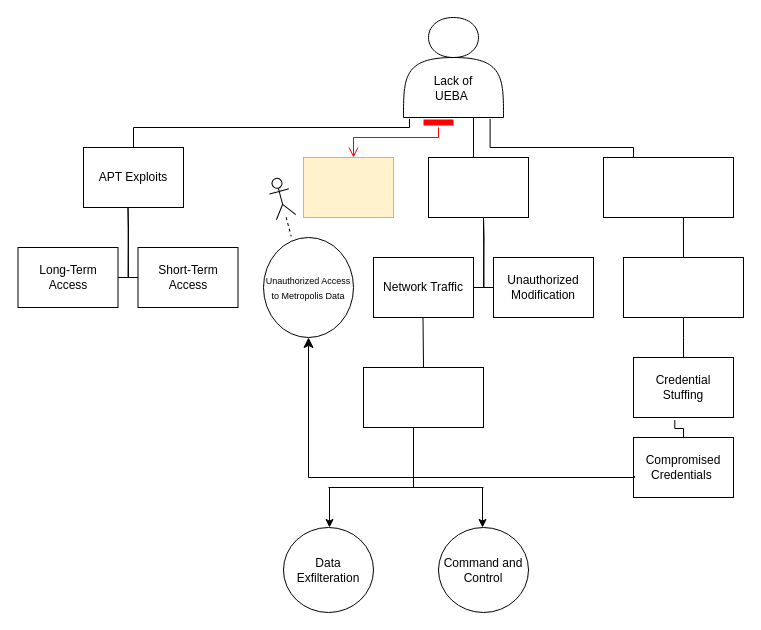
Some shapes in this 761 by 630 pixel diagram are drawn without their labels. The shapes that lost their labels are listed below. From the top down, each one's centre as x and y in pixels, then its label:
the point at 348,187: Insider Threat
the point at 478,187: Undetected System Activities
the point at 668,187: Successful Social Engineering
the point at 683,287: Unauthorized Disclosure and Exploits
the point at 423,397: Increased Bandwidth
